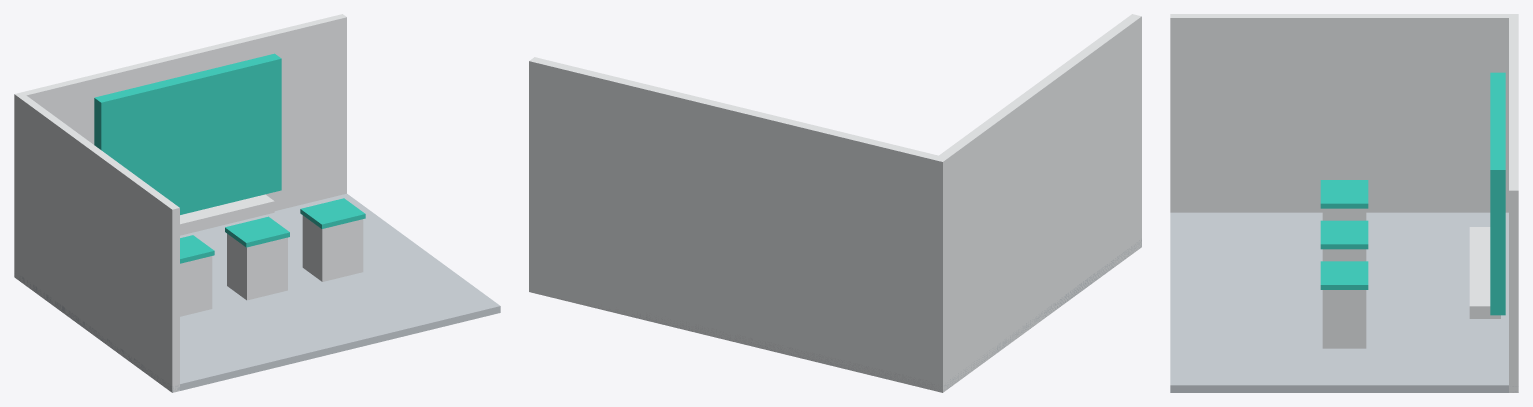
3 views of the same model, side by side, from view 1: azimuth 30°, elevation 25°; view 2: azimuth 150°, elevation 25°; view 3: azimuth 270°, elevation 25° (orthographic). The views are drawn at different scales.
Visible parts, largest first — view 1: Exhibition Booth Concept; view 2: Exhibition Booth Concept; view 3: Exhibition Booth Concept.
Part boxes in pixels (bbox=[...]): Exhibition Booth Concept: bbox=[14, 14, 500, 392]; Exhibition Booth Concept: bbox=[529, 14, 1141, 392]; Exhibition Booth Concept: bbox=[1170, 14, 1518, 392].
Bounding box in the file's own units: 6 × 3.2 × 5.
